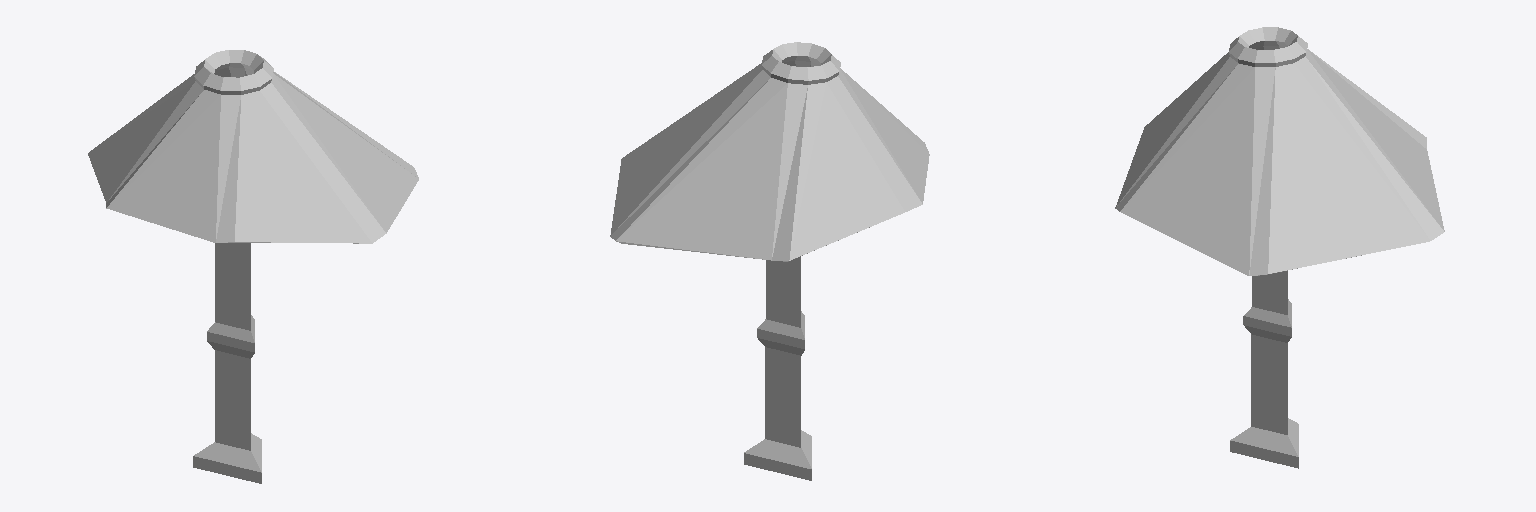
The model's file is lamp.obj.
The picture shows the model from 3 angles: view 1: azimuth 30°, elevation 25°; view 2: azimuth 150°, elevation 25°; view 3: azimuth 270°, elevation 25°; orthographic projection.
Visible parts, largest first — view 1: group[number redacted], group[number redacted]; view 2: group[number redacted], group[number redacted]; view 3: group[number redacted], group[number redacted].
Part boxes in pixels (left/top/right/bottom): group[number redacted]: left=88, top=50, right=418, bottom=243; group[number redacted]: left=193, top=243, right=261, bottom=483; group[number redacted]: left=610, top=42, right=929, bottom=261; group[number redacted]: left=744, top=256, right=811, bottom=480; group[number redacted]: left=1115, top=27, right=1444, bottom=275; group[number redacted]: left=1230, top=271, right=1298, bottom=468.
Bounding box in the file's own units: 0.6844 × 0.8812 × 0.6414.